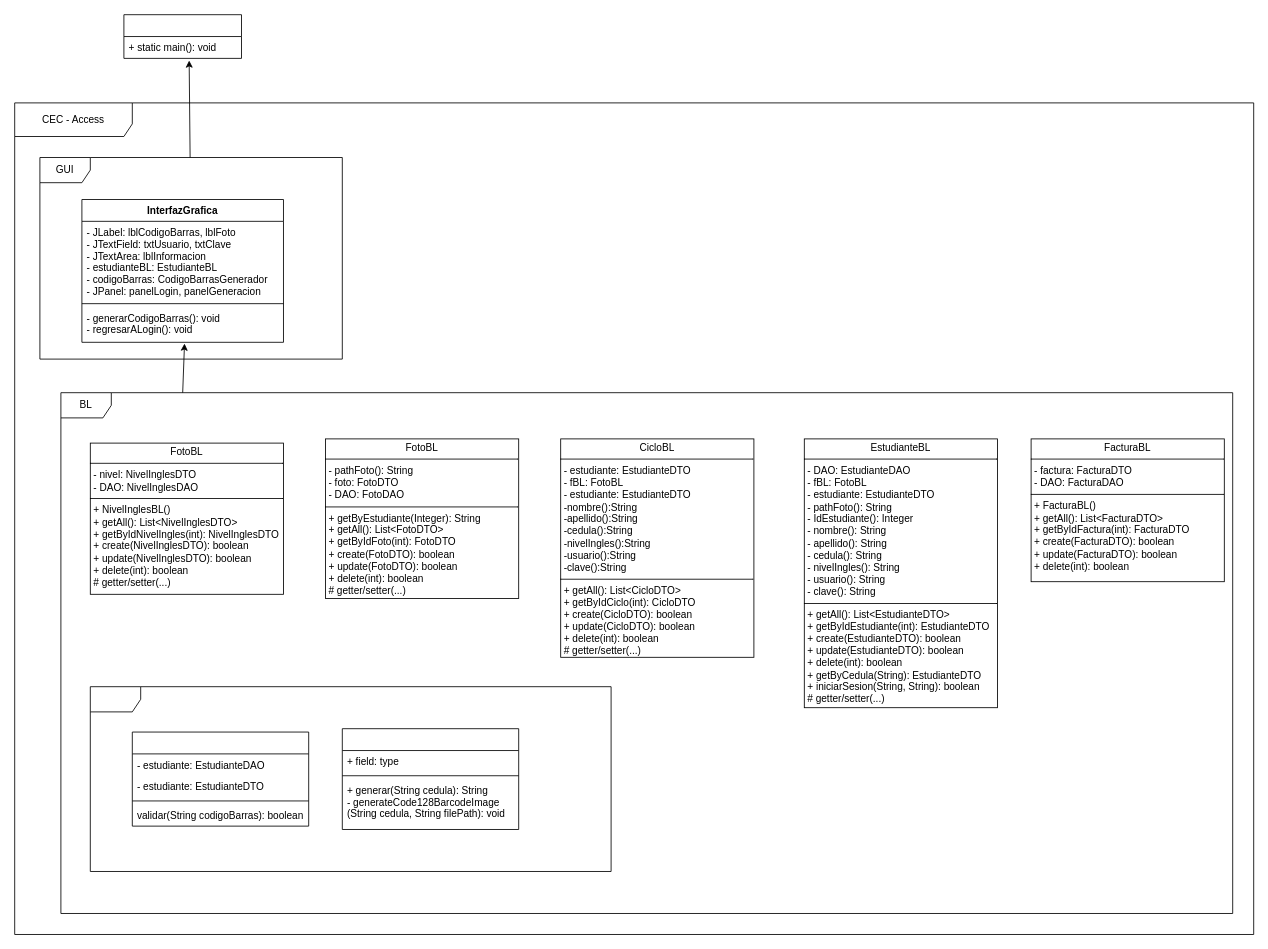
Some shapes in this 1268 by 949 pixel diagram are drawn without their labels. The shapes that lost their labels are listed below. From the top down, each one's box as (x1, y1, x2, y2) in pixels, then its label:
(123, 14, 242, 58): App
(131, 731, 309, 826): CodigoBarrasScanner
(89, 686, 611, 872): entities
(341, 728, 519, 830): CodigoBarrasGenerador
